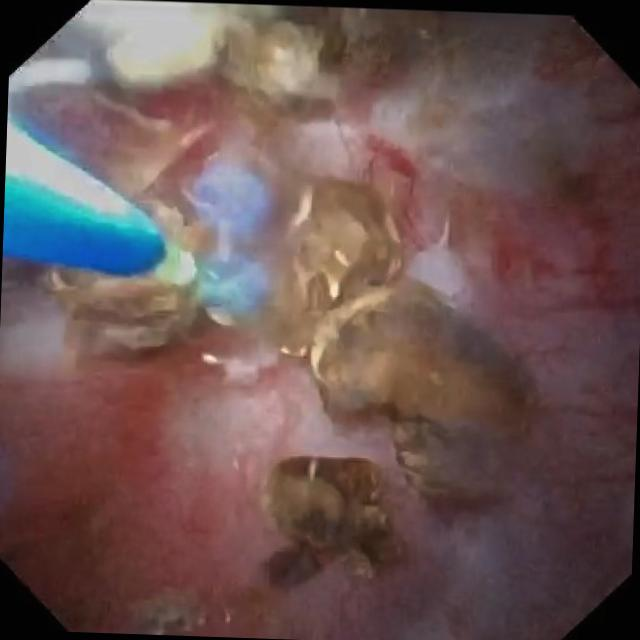laser-fibre: (154, 243, 195, 283)
laser_dot: (205, 277, 241, 297)
stone-new: (190, 158, 400, 353), (309, 278, 529, 430), (44, 204, 203, 348), (15, 85, 202, 198), (262, 455, 391, 559), (392, 416, 497, 505), (223, 19, 328, 97), (321, 8, 409, 74), (265, 545, 319, 586)
